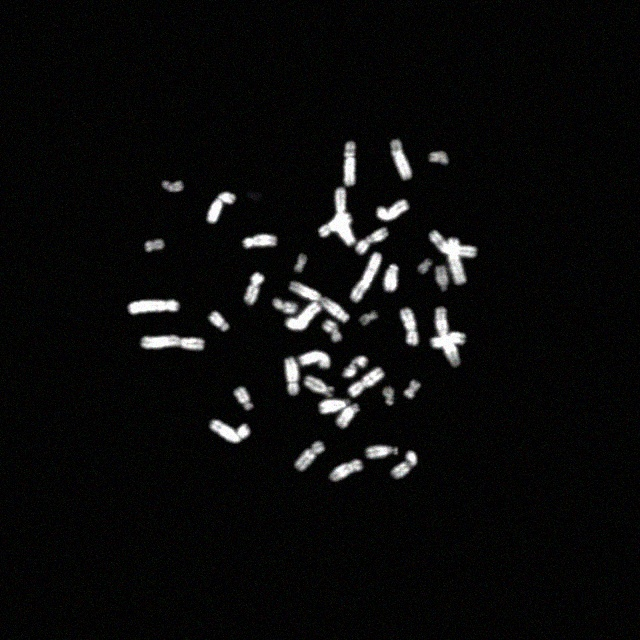chromosome: (288, 280, 349, 322), (352, 252, 382, 304), (436, 307, 460, 367), (334, 188, 356, 245), (430, 231, 478, 257), (286, 301, 324, 331), (349, 368, 385, 398), (448, 238, 467, 286), (207, 192, 235, 224), (356, 227, 390, 253), (209, 420, 249, 442), (141, 336, 203, 350), (296, 441, 324, 471), (129, 300, 179, 316), (391, 140, 411, 180), (390, 451, 418, 479), (319, 213, 351, 237), (330, 459, 362, 481), (400, 308, 418, 346), (376, 200, 409, 220), (298, 349, 329, 368), (284, 356, 298, 396), (304, 376, 332, 396), (344, 140, 356, 186), (336, 404, 359, 428), (432, 332, 466, 348), (245, 274, 263, 304), (319, 396, 349, 414), (343, 357, 367, 377), (234, 386, 253, 410), (324, 321, 342, 344), (243, 236, 277, 248), (208, 312, 228, 332), (366, 446, 399, 458), (384, 264, 398, 292), (271, 299, 297, 313), (404, 379, 420, 399), (429, 149, 448, 165), (359, 310, 377, 326), (437, 265, 448, 291), (294, 254, 308, 274), (162, 180, 184, 192), (145, 240, 165, 252), (418, 258, 432, 274), (382, 388, 393, 406)
